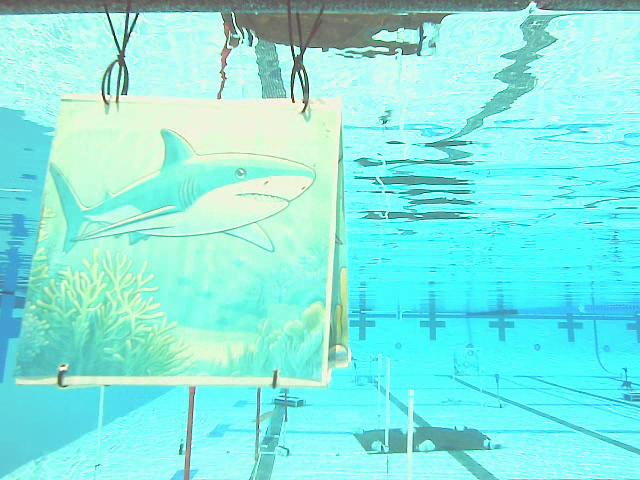shark: (13, 86, 353, 385)
